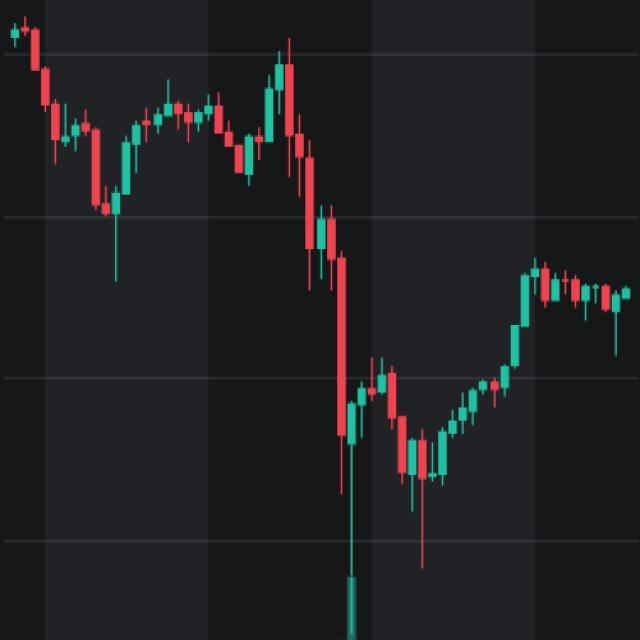Inverse-Head-Shoulders: (334, 242, 534, 508)
